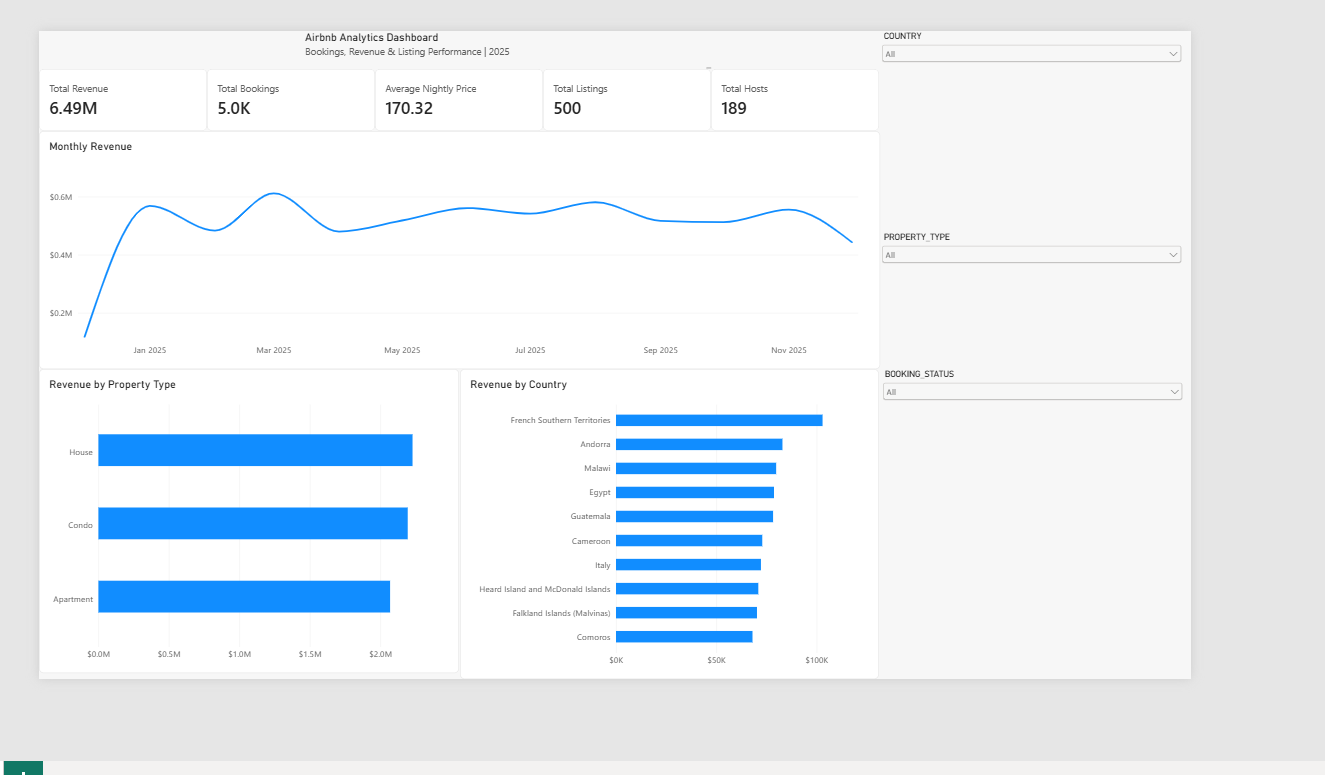

This screenshot's page, from the dashboard's own definition file:
{"tool":"powerbi","page":{"name":"Page 1","canvas":[1920,1080],"ordinal":0},"visuals":[{"type":"cardVisual","fields":{"Data":["FACT.Total Revenue"]},"box":[0,63.3,280.1,103.6],"z":0},{"type":"cardVisual","fields":{"Data":["FACT.Total Bookings"]},"box":[280,63.3,280.1,103.6],"z":1000},{"type":"cardVisual","fields":{"Data":["FACT.Average Nightly Price"]},"box":[560,63.3,280.1,103.6],"z":2000},{"type":"cardVisual","fields":{"Data":["FACT.Total Listings"]},"box":[840,63.3,280.1,103.6],"z":3000},{"type":"cardVisual","fields":{"Data":["FACT.Total Hosts"]},"box":[1120,63.3,280.1,103.6],"z":4000},{"type":"lineChart","title":"Monthly Revenue","fields":{"Category":["DIM_BOOKINGS.BOOKING_DATE.Variation.Date Hierarchy.Year","DIM_BOOKINGS.BOOKING_DATE.Variation.Date Hierarchy.Month"],"Y":["FACT.Total Revenue"]},"box":[0,166.7,1401.7,396.7],"z":5000},{"type":"clusteredBarChart","title":"Revenue by Property Type","fields":{"Category":["DIM_LISTINGS.PROPERTY_TYPE"],"Y":["FACT.Total Revenue"]},"box":[0,563.3,700,506.7],"z":6000},{"type":"clusteredBarChart","title":"Revenue by Country","fields":{"Category":["DIM_LISTINGS.COUNTRY"],"Y":["FACT.Total Revenue"]},"box":[701.7,563.3,698.3,516.7],"z":7000},{"type":"slicer","fields":{"Values":["DIM_LISTINGS.COUNTRY"]},"box":[1400,0,509.3,334.9],"z":8000},{"type":"slicer","fields":{"Values":["DIM_LISTINGS.PROPERTY_TYPE"]},"box":[1400,335,509,205],"z":9000},{"type":"slicer","fields":{"Values":["DIM_BOOKINGS.BOOKING_STATUS"]},"box":[1401.7,563.3,509.4,262],"z":10000},{"type":"textbox","box":[1410,825,509,255],"z":10001},{"type":"textbox","box":[100,100,300,33.3],"z":10002},{"type":"textbox","title":"Airbnb Analytics Dashboard","box":[443.3,0,676.7,63.3],"z":10003}]}

Visuals, with their boxes on the page's 1920x1080 design canvas (x1, y1, x2, y2). These are canvas units, not pixel positions in the 1325x775 screenshot, which may show the page scaled, cropped or inside an application window:
cardVisual - FACT.Total Revenue: left=0, top=63, right=280, bottom=167
cardVisual - FACT.Total Bookings: left=280, top=63, right=560, bottom=167
cardVisual - FACT.Average Nightly Price: left=560, top=63, right=840, bottom=167
cardVisual - FACT.Total Listings: left=840, top=63, right=1120, bottom=167
cardVisual - FACT.Total Hosts: left=1120, top=63, right=1400, bottom=167
"Monthly Revenue" lineChart: left=0, top=167, right=1402, bottom=563
"Revenue by Property Type" clusteredBarChart: left=0, top=563, right=700, bottom=1070
"Revenue by Country" clusteredBarChart: left=702, top=563, right=1400, bottom=1080
slicer - DIM_LISTINGS.COUNTRY: left=1400, top=0, right=1909, bottom=335
slicer - DIM_LISTINGS.PROPERTY_TYPE: left=1400, top=335, right=1909, bottom=540
slicer - DIM_BOOKINGS.BOOKING_STATUS: left=1402, top=563, right=1911, bottom=825
textbox: left=1410, top=825, right=1919, bottom=1080
textbox: left=100, top=100, right=400, bottom=133
"Airbnb Analytics Dashboard" textbox: left=443, top=0, right=1120, bottom=63
